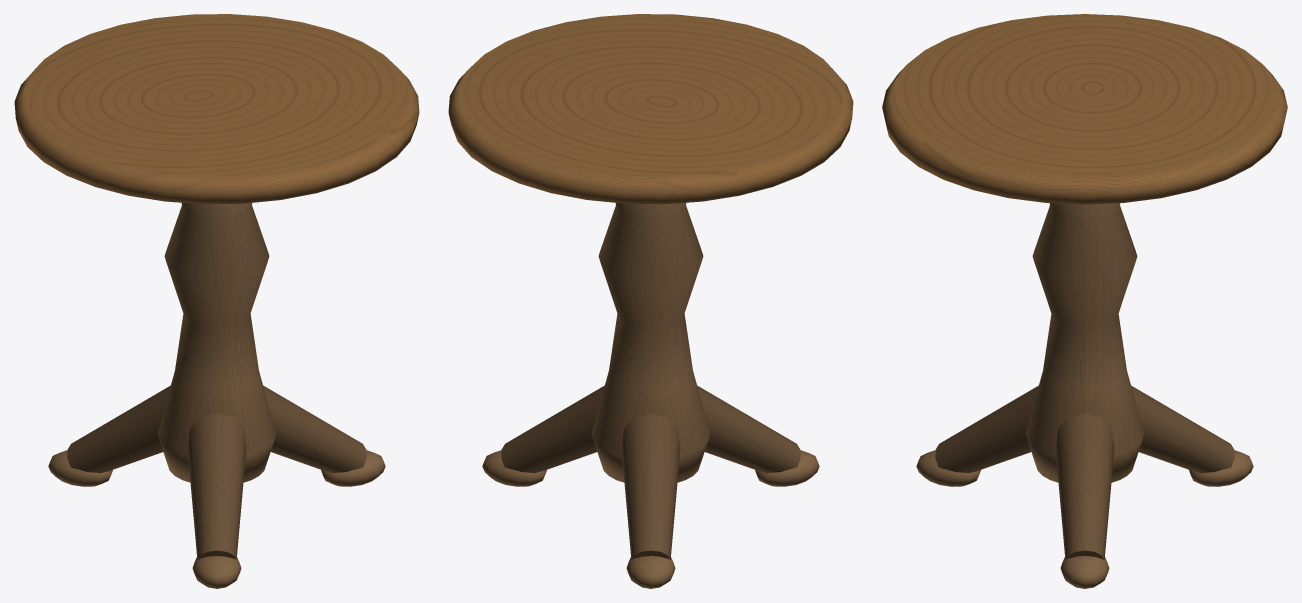
File: mesita.glb
The picture shows the model from 3 angles, left to right: view 1: azimuth 30°, elevation 25°; view 2: azimuth 150°, elevation 25°; view 3: azimuth 270°, elevation 25°; orthographic projection.
Visible parts, largest first — view 1: mesita; view 2: mesita; view 3: mesita.
Part boxes in pixels (bbox=[...]): mesita: bbox=[14, 14, 419, 588]; mesita: bbox=[448, 14, 853, 588]; mesita: bbox=[882, 14, 1287, 588].
Bounding box in the file's own units: 0.58 × 0.664 × 0.58.
1 material, 1 textured.
